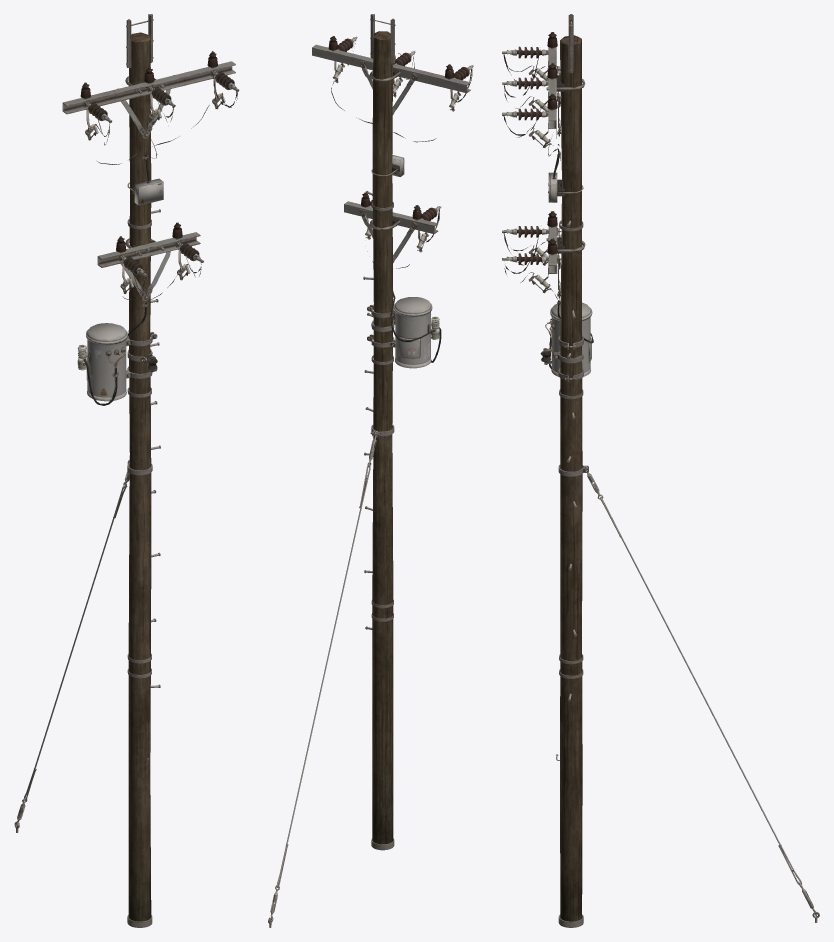
Rendered from poste_transformador.glb.
3 renders of one model, left to right at view 1: azimuth 30°, elevation 25°; view 2: azimuth 150°, elevation 25°; view 3: azimuth 270°, elevation 25°, orthographic. The views are drawn at different scales.
Parts seen in each view (by area): view 1: preset_01_pole, preset_01_connection_large_02, preset_01_transformer_01, preset_01_connection_small_02, preset_01_fastener, preset_01_transformer_02, preset_01_fuse_02, preset_01_cap; view 2: preset_01_pole, preset_01_transformer_01, preset_01_connection_large_02, preset_01_connection_small_02, preset_01_fastener, preset_01_fuse_02, preset_01_cap; view 3: preset_01_pole, preset_01_connection_large_02, preset_01_connection_small_02, preset_01_transformer_01, preset_01_fastener.
Boxes of the visible parts, x1,y1,x2,y2 form: preset_01_pole: (128,32,151,921); preset_01_connection_large_02: (62,51,239,145); preset_01_transformer_01: (77,302,157,405); preset_01_connection_small_02: (97,222,203,300); preset_01_fastener: (14,471,129,826); preset_01_transformer_02: (127,155,163,205); preset_01_fuse_02: (85,78,237,164); preset_01_cap: (126,14,153,67); preset_01_pole: (372,31,393,844); preset_01_transformer_01: (367,292,441,368); preset_01_connection_large_02: (312,36,473,114); preset_01_connection_small_02: (344,192,441,262); preset_01_fastener: (269,431,377,921); preset_01_fuse_02: (331,58,472,142); preset_01_cap: (370,14,395,63); preset_01_pole: (560,35,582,921); preset_01_connection_large_02: (502,32,585,136); preset_01_connection_small_02: (502,211,585,298); preset_01_transformer_01: (545,300,593,382); preset_01_fastener: (582,466,817,916).
Bounding box in the file's own units: 1.2 × 6.13 × 1.96.
2 materials, 2 textured.
